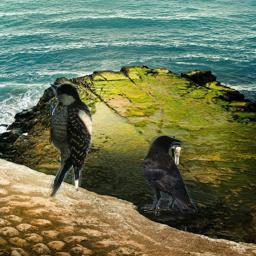Crow: (141, 135, 198, 216)
Woodpecker: (48, 82, 93, 197)
